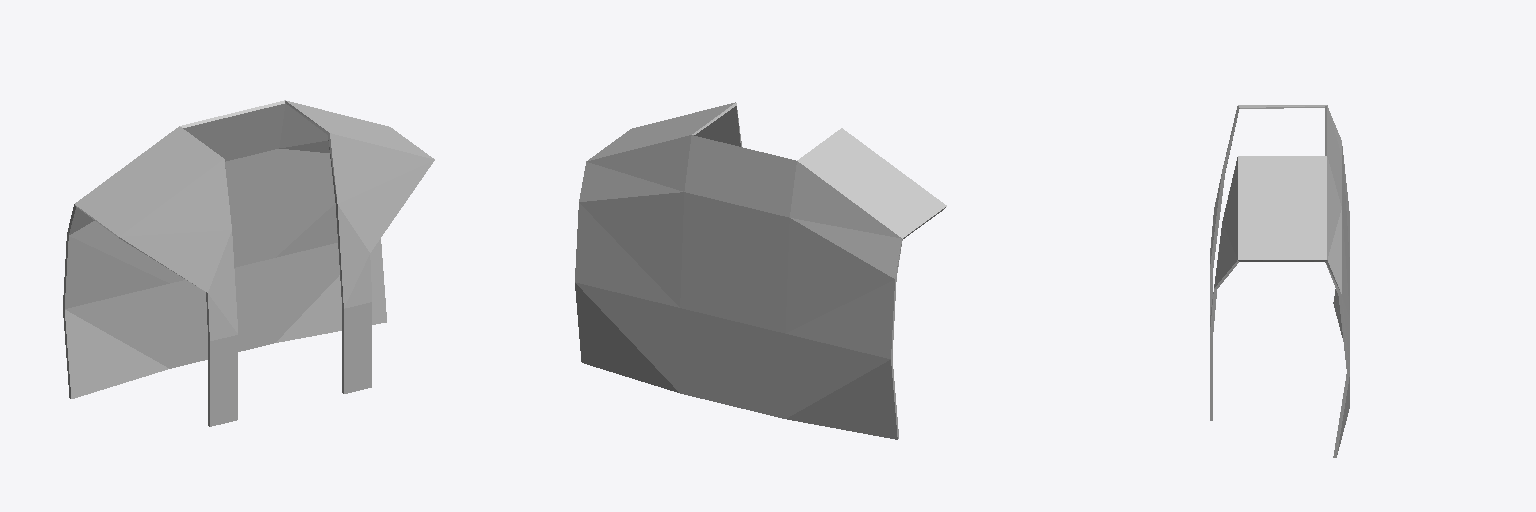
File: armor.obj
The picture shows the model from 3 angles: view 1: azimuth 30°, elevation 25°; view 2: azimuth 150°, elevation 25°; view 3: azimuth 270°, elevation 25°; orthographic projection.
Parts seen in each view (by area): view 1: 平面; view 2: 平面; view 3: 平面.
Boxes of the visible parts, <box> form: 平面: <box>63,100,434,426</box>; 平面: <box>575,102,946,439</box>; 平面: <box>1210,105,1349,457</box>.
Bounding box in the file's own units: 5.25 × 3.98 × 2.02.